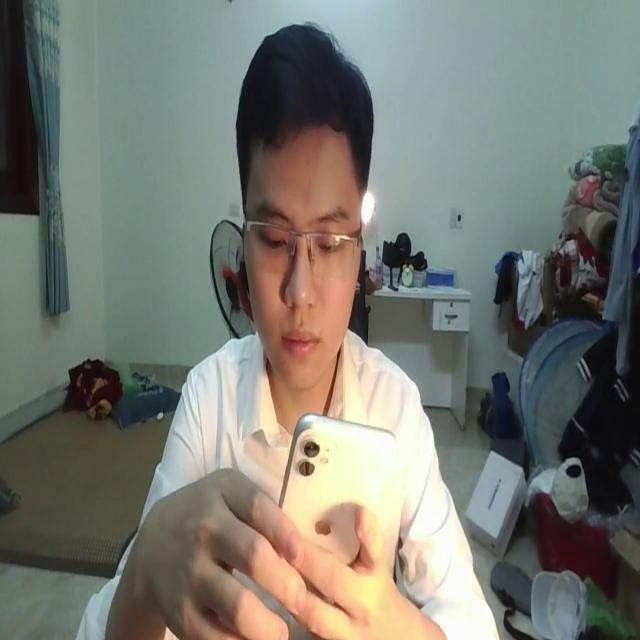phone: (271, 399, 395, 559)
student: (64, 28, 505, 640)
